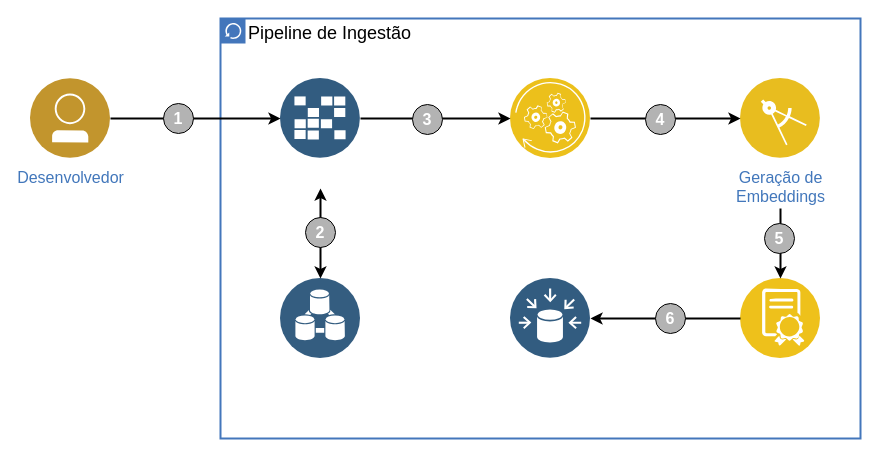
This 879x456 diagram has some shape labels left out. The box of each missing label's shape, as (x1, y1, x2, y2) in pixels:
Biblioteca de Documentos: (280, 278, 360, 358)
Formatação de Dados: (740, 278, 820, 358)
Inserção no Banco Vetorial: (510, 278, 590, 358)
Leitura de Dados: (280, 78, 360, 158)
Processamento de Dados: (510, 78, 590, 158)
